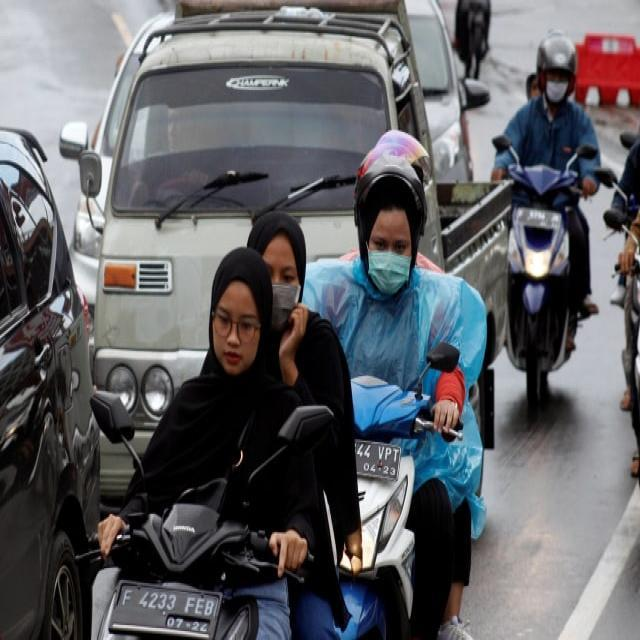Helmet: (354, 130, 431, 268), (354, 130, 431, 234), (536, 31, 576, 99), (536, 31, 576, 75)
Number Plate: (109, 582, 221, 639), (355, 440, 400, 480), (518, 208, 561, 228)
Rearview Mirror: (278, 406, 333, 450), (90, 391, 134, 443), (59, 121, 87, 159), (79, 151, 101, 197), (427, 342, 459, 371), (462, 78, 489, 109), (603, 209, 627, 230), (594, 167, 617, 187), (619, 131, 639, 149), (576, 144, 597, 159), (492, 134, 510, 151)
